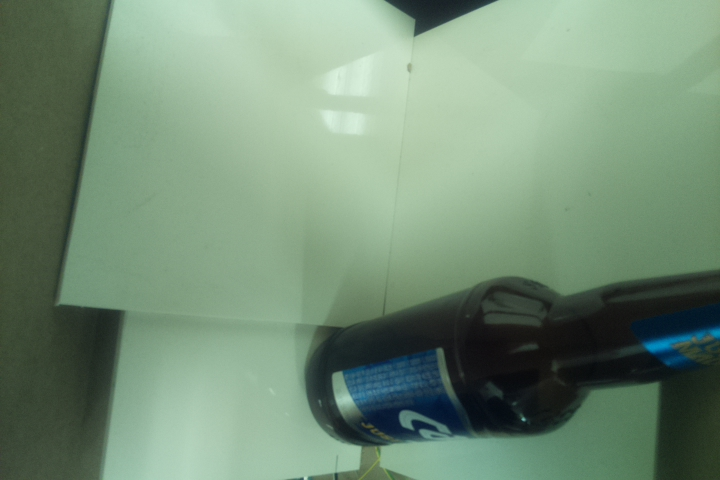makju: (300, 268, 720, 449)
